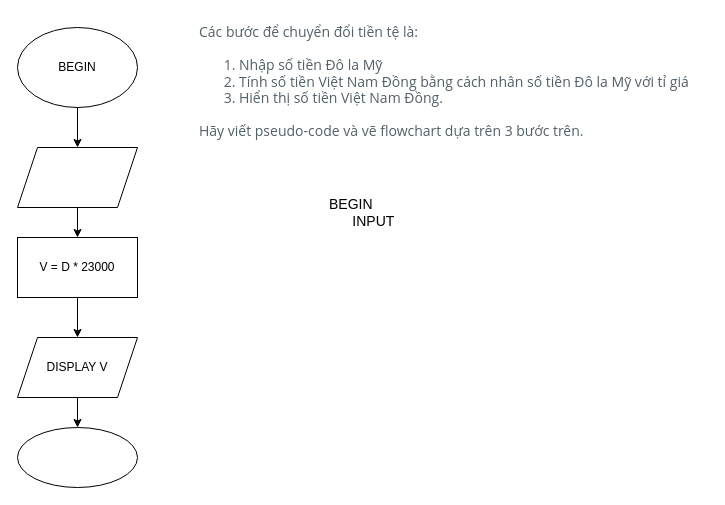
The diagram is 725 pixels wide and 505 high, and some of its shapes have lost their labels. The shapes that lost their labels are listed below. From the top down, each one's centre as x and y in pixels, then its label:
point (77, 177): INPUT D, V
point (77, 457): END
